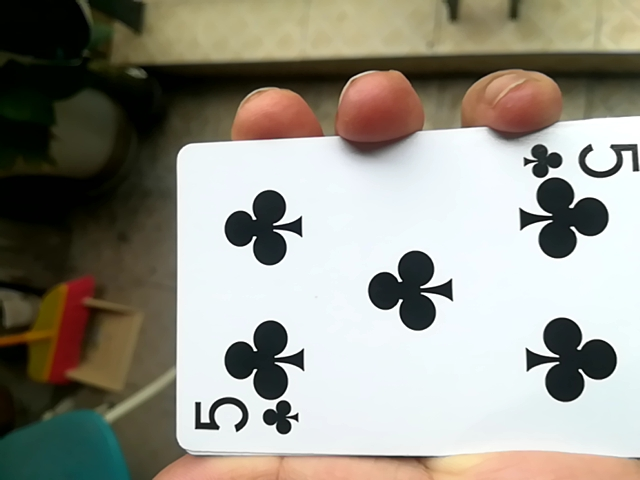mh 5: (161, 121, 635, 459)
